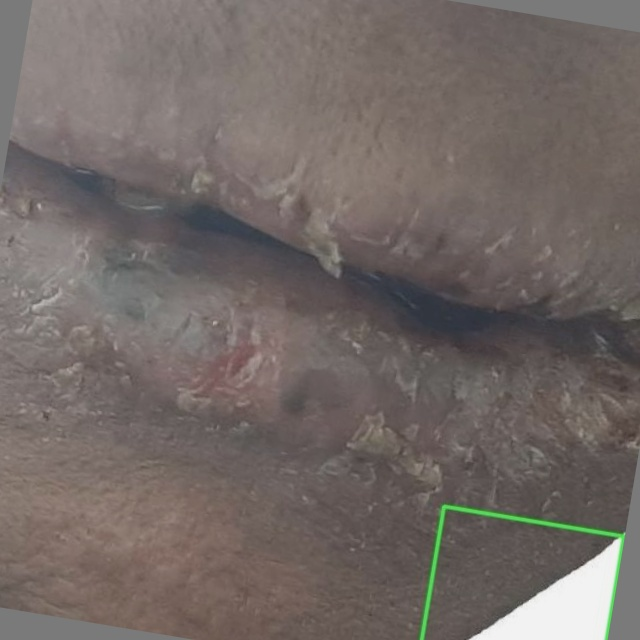Contact Dermatitis: (421, 506, 624, 639)
